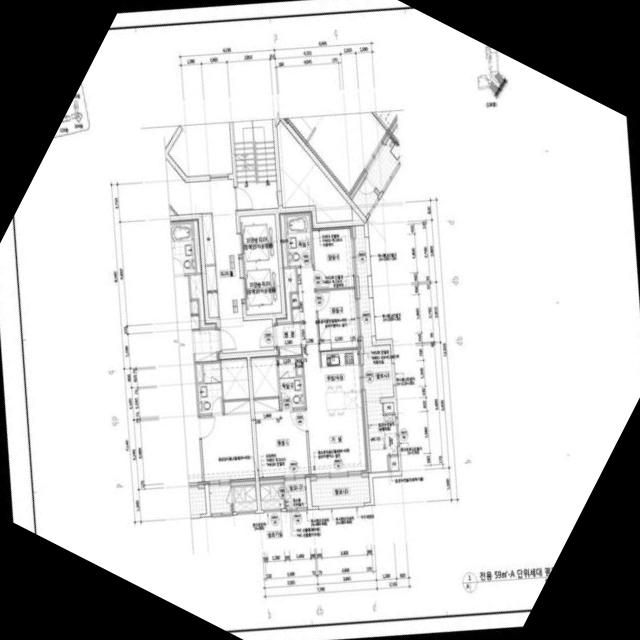background: (0, 0, 640, 640)
space_balconi: (356, 226, 398, 473), (311, 477, 370, 507), (284, 480, 307, 508)
space_bedroom: (254, 398, 309, 480), (312, 226, 356, 289), (317, 289, 360, 349)
space_elevator: (243, 263, 282, 315), (240, 214, 278, 266)
space_elevator_hall: (166, 159, 274, 353)
space_front: (275, 324, 302, 356)
space_kitchen: (321, 350, 364, 411)
space_living_room: (292, 267, 368, 477)
space_other: (251, 355, 279, 398), (276, 268, 297, 323), (206, 266, 219, 318), (202, 214, 215, 265), (260, 483, 284, 510), (279, 214, 288, 267), (389, 457, 399, 471), (296, 357, 303, 375), (384, 402, 394, 413), (291, 294, 298, 307)
space_staircase: (233, 119, 279, 210)
space_toilet: (278, 358, 305, 408), (287, 215, 313, 266)
